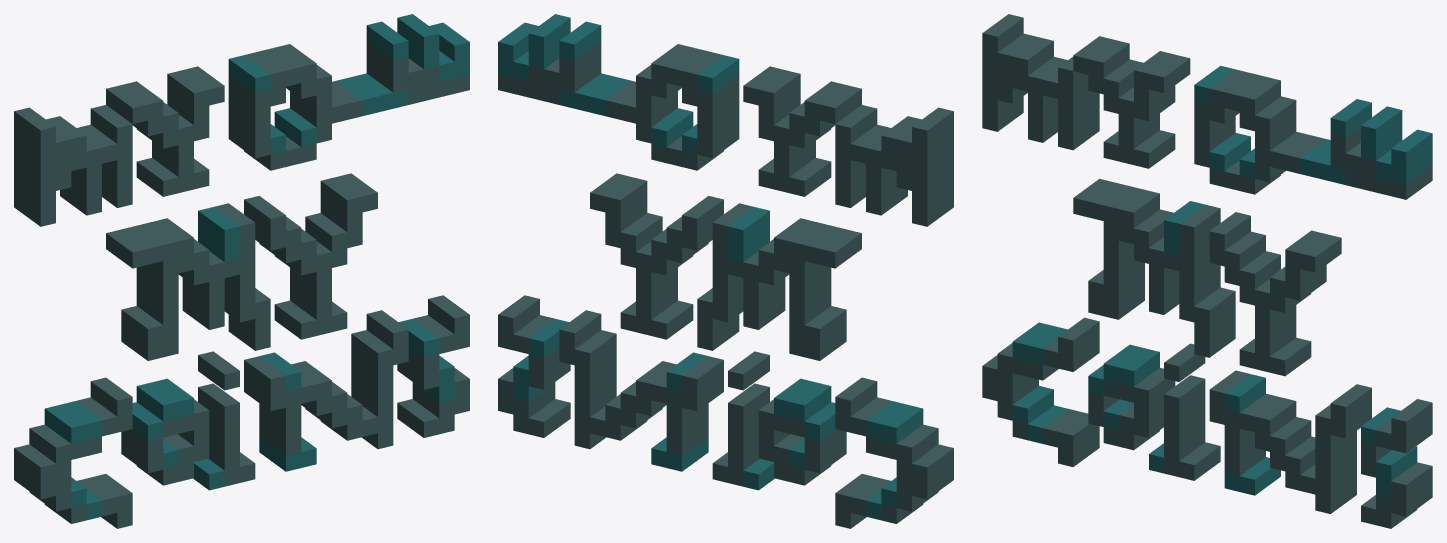
The picture shows the model from 3 angles, left to right: view 1: azimuth 30°, elevation 25°; view 2: azimuth 150°, elevation 25°; view 3: azimuth 330°, elevation 25°; orthographic projection.
Bounding box in the file's own units: 1.4 × 1.3 × 0.15.
